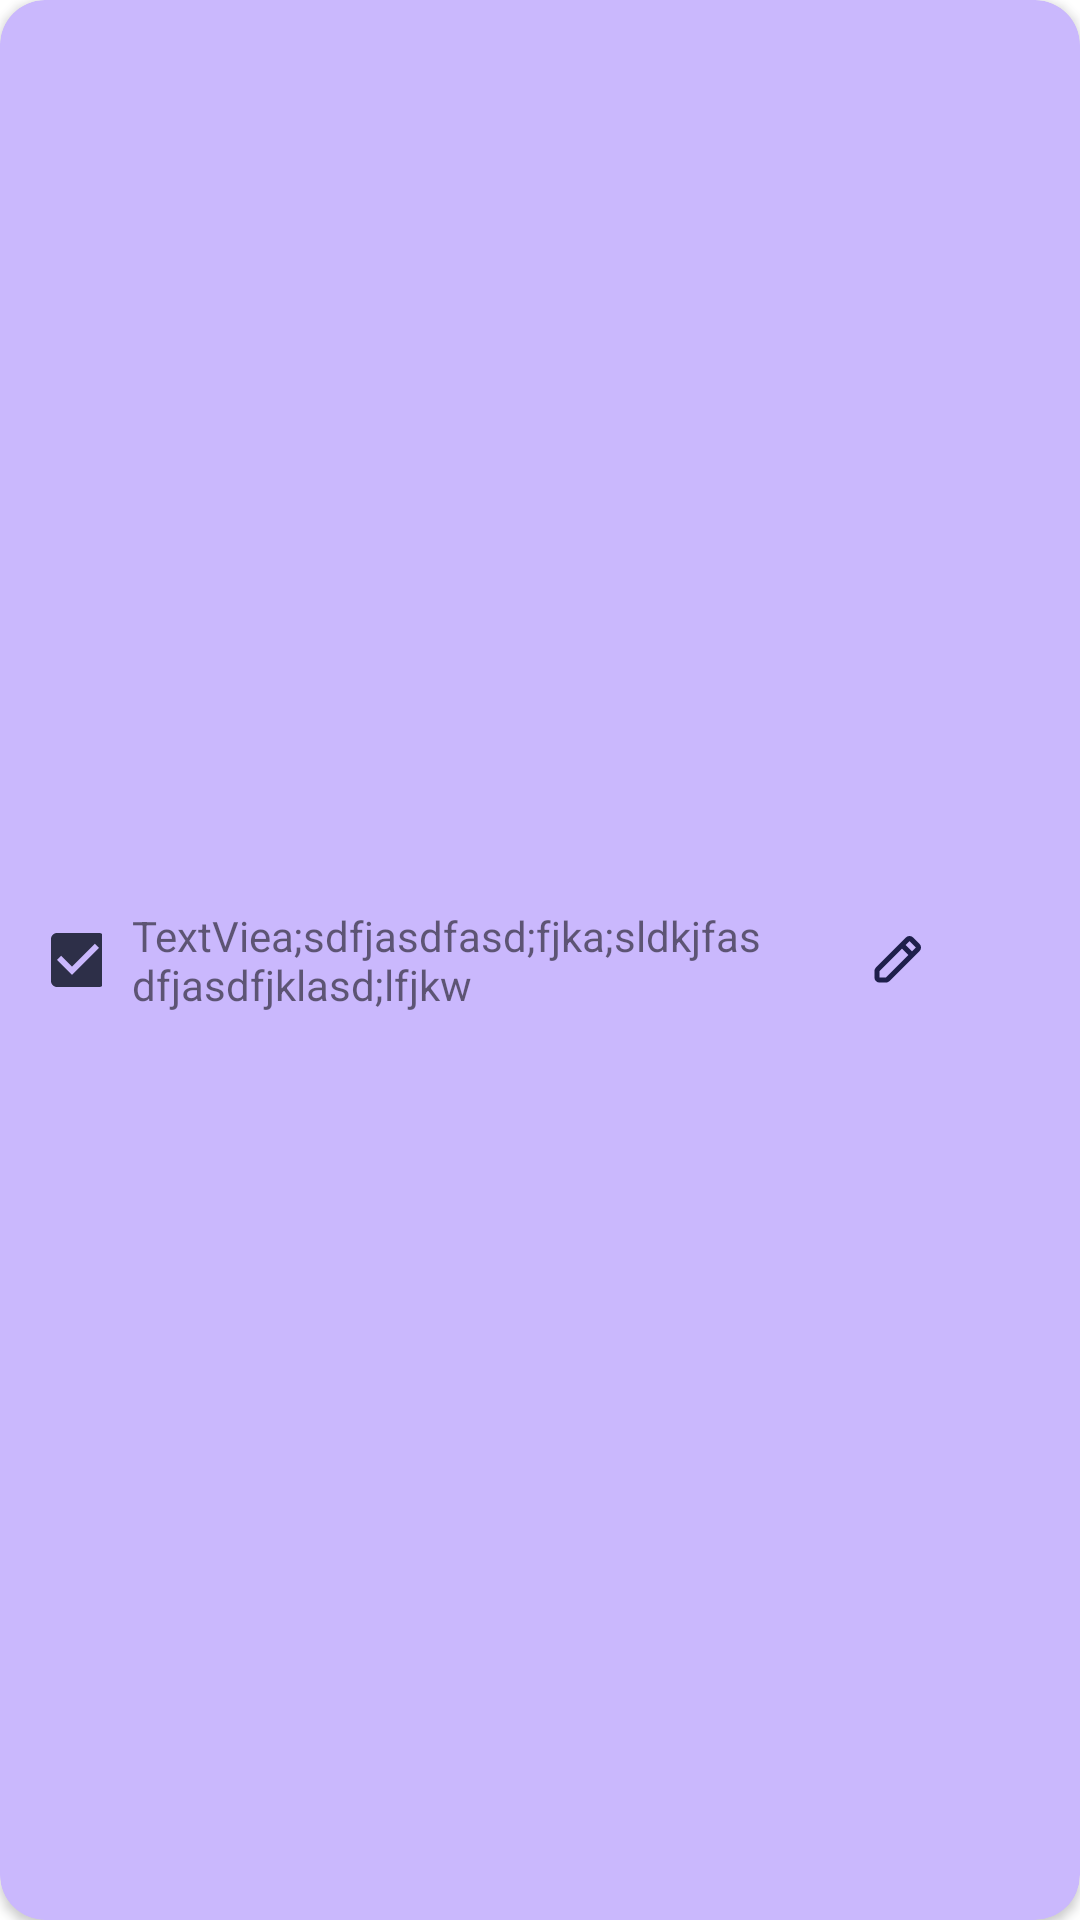

Named icons in this screenshot (1080x1920) and their bounding boxes, (x1, y1, x2, y2):
property note: (874, 936, 921, 983)
